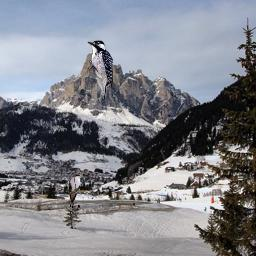Cuckoo: (68, 173, 83, 214)
Woodpecker: (87, 40, 113, 101)
